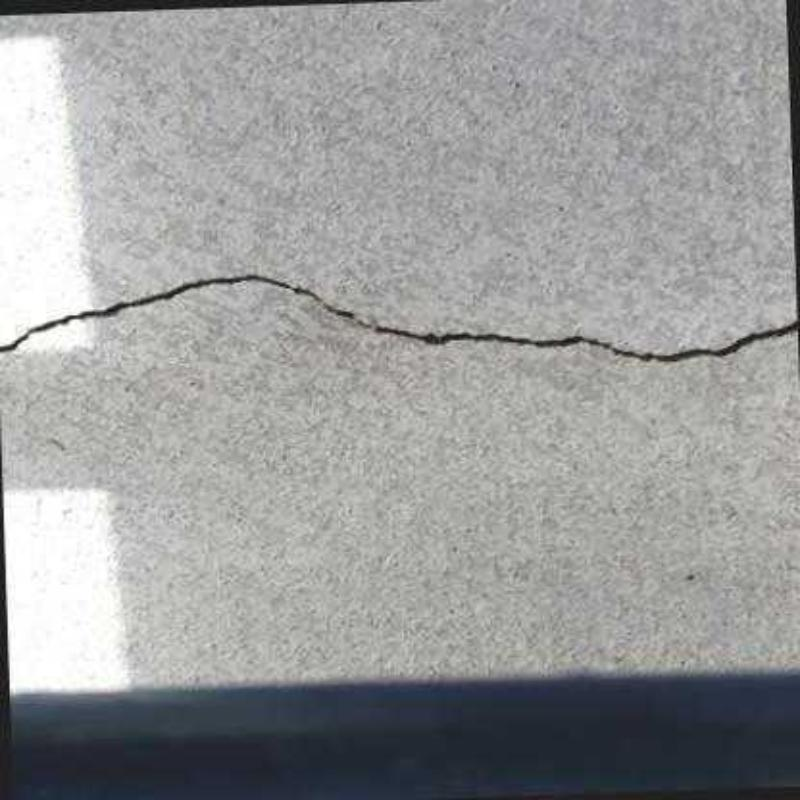pothole: (0, 269, 798, 361)
